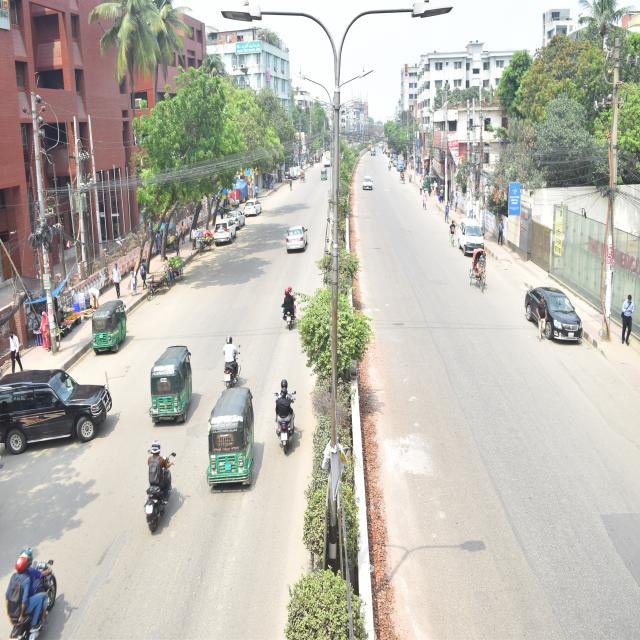bus: (321, 148, 337, 174)
car: (0, 365, 124, 449), (518, 268, 597, 373), (272, 210, 315, 275), (451, 206, 493, 269), (237, 187, 271, 228), (206, 218, 244, 252), (359, 174, 384, 203), (223, 204, 247, 227)
motorbike: (0, 535, 78, 639), (121, 434, 191, 536), (277, 268, 325, 362), (272, 374, 310, 459), (213, 326, 249, 406)
